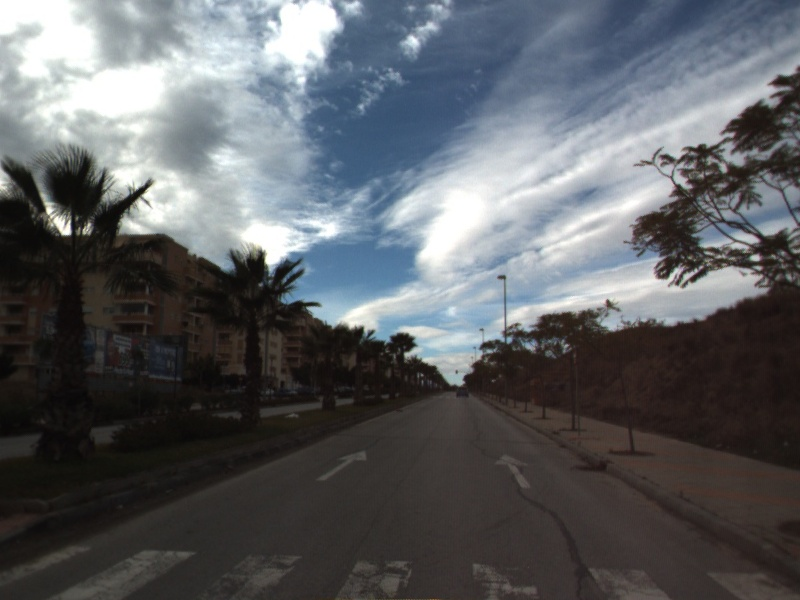STRAIGHT: (314, 448, 369, 482), (492, 451, 534, 490)
